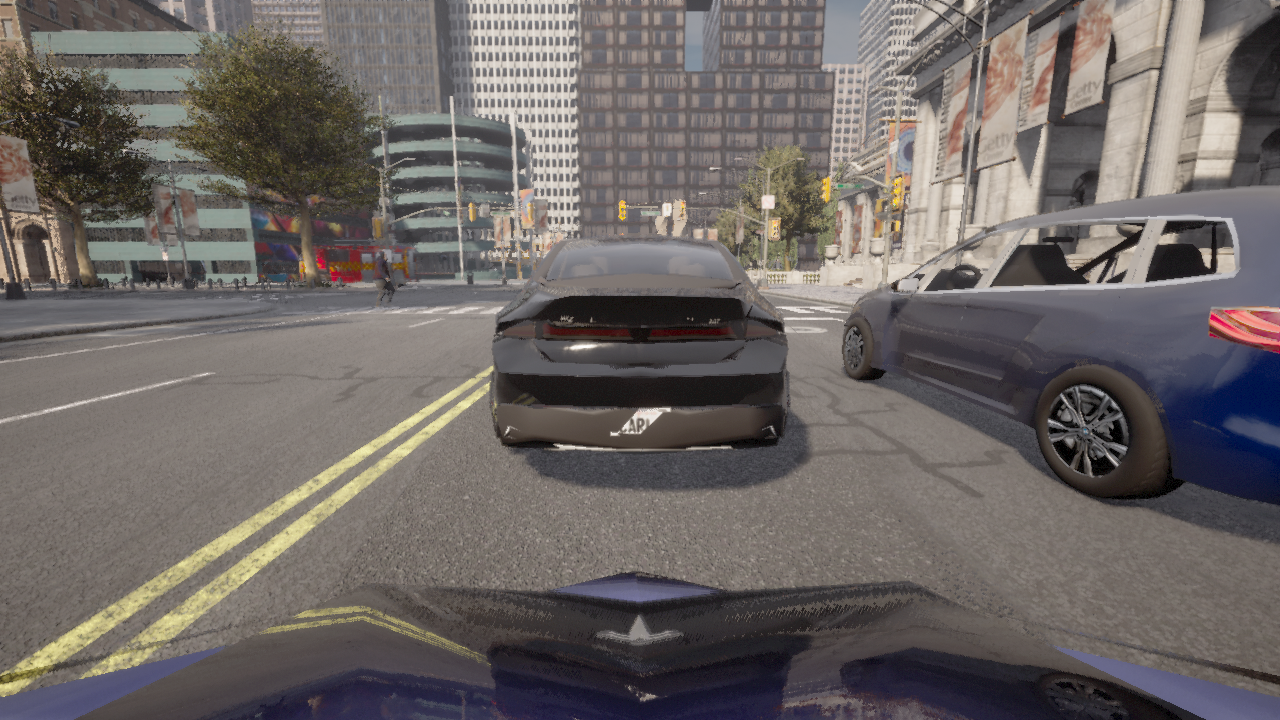cyclist: (0, 569, 1279, 719), (841, 186, 1279, 505), (490, 234, 789, 453), (300, 239, 421, 287), (145, 270, 176, 281), (272, 270, 294, 273), (294, 268, 299, 273), (225, 272, 236, 273)
pedestrian: (374, 253, 395, 308)
